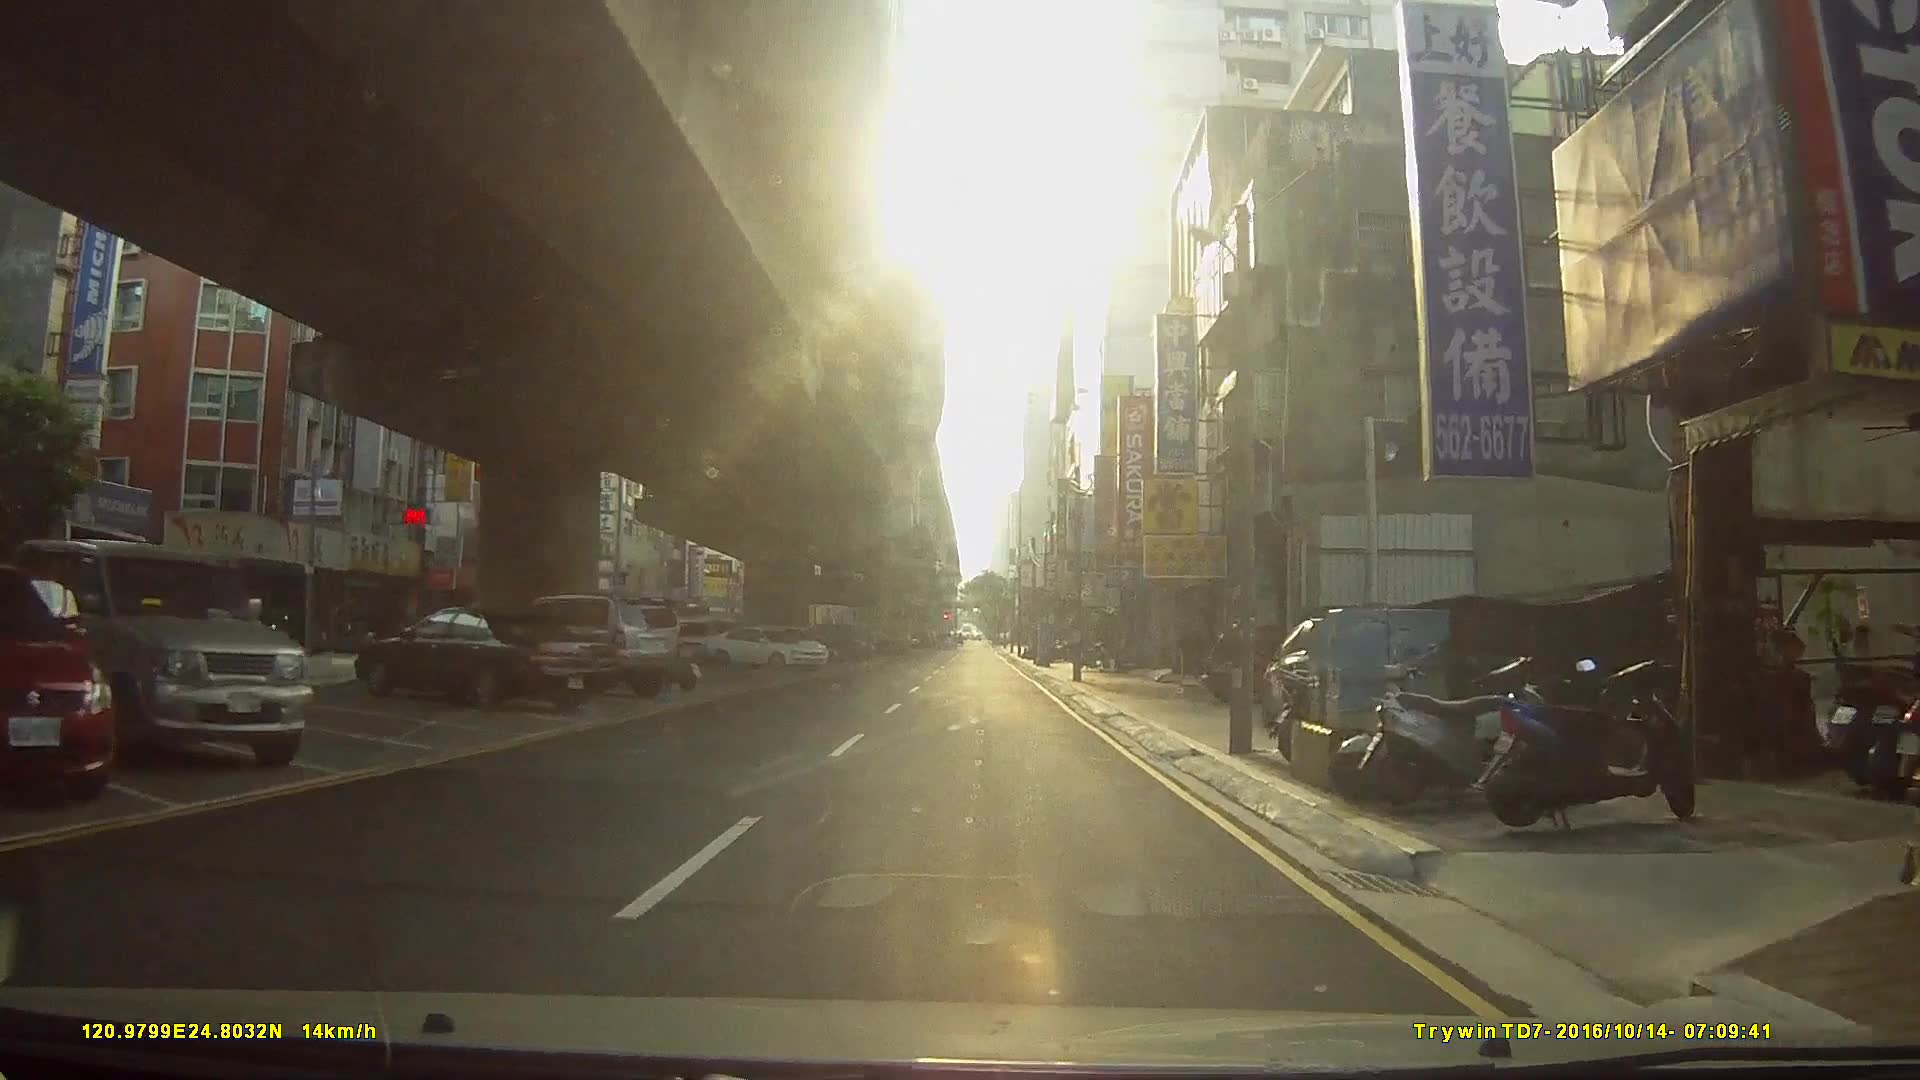vehicle: (7, 535, 315, 769), (352, 605, 622, 712), (0, 560, 115, 799), (504, 592, 684, 699), (703, 626, 833, 673)
